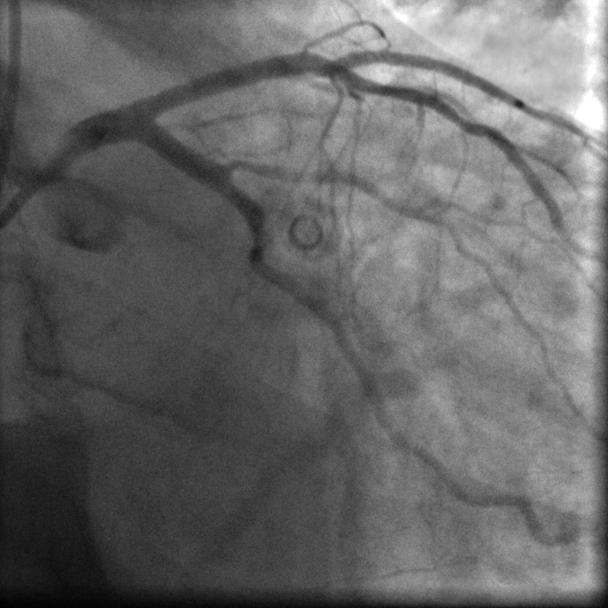Stenosis: (222, 151, 259, 183)
